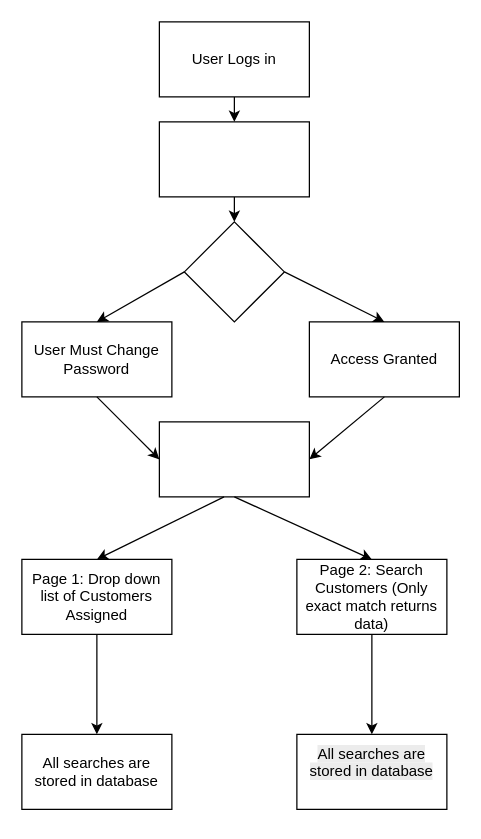
This 481x839 diagram has some shape labels left out. Each missing label, with the box of its shape:
Choose Application Page: (158, 421, 309, 497)
First Login?: (183, 221, 284, 322)
Password Checked: (158, 121, 309, 197)
